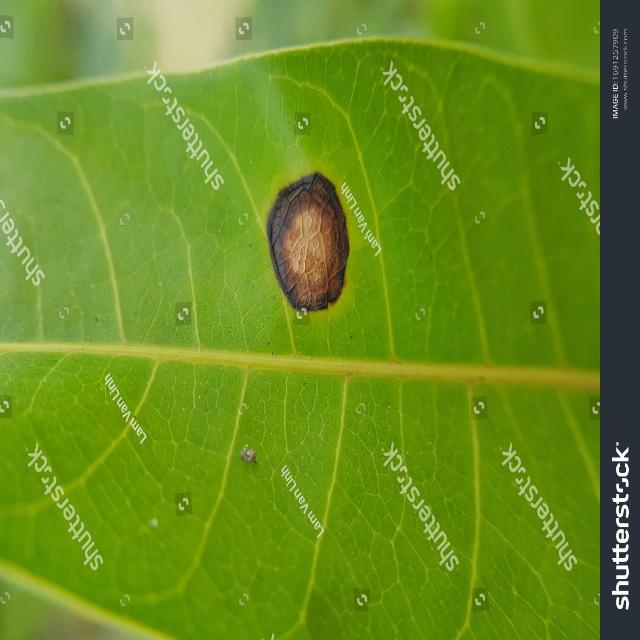leaf_spot: (3, 91, 537, 383)
